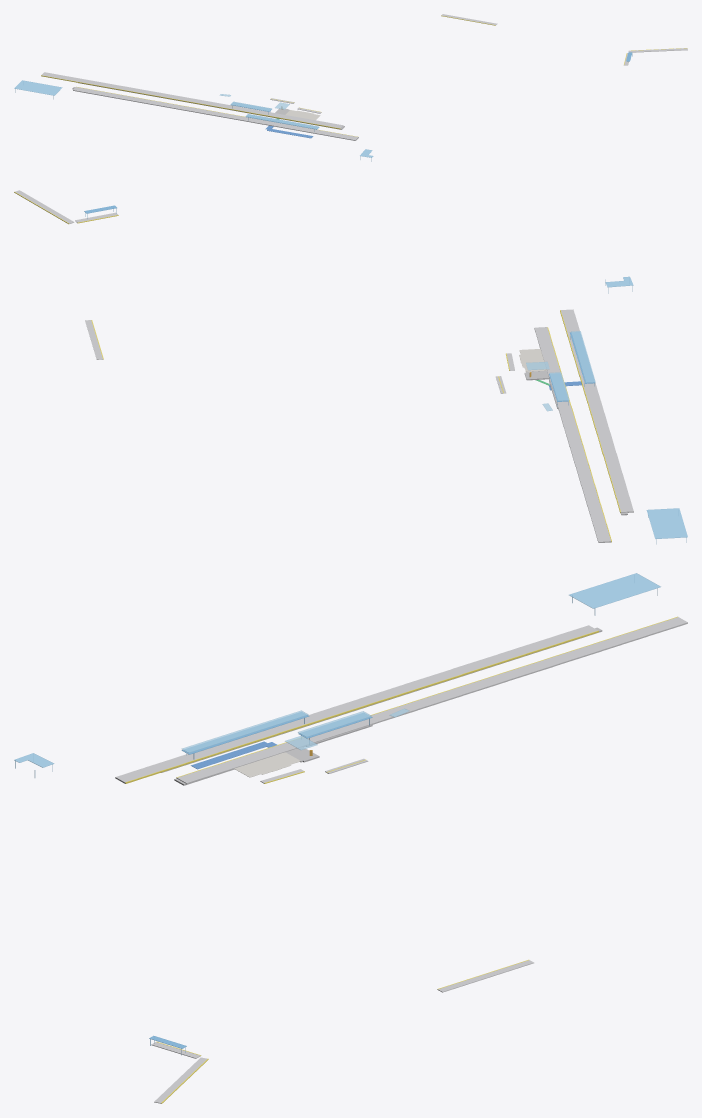
Rendered from 8507079-bern-weissenbuehl.glb.
3 renders of one model, top to bottom at view 1: azimuth 30°, elevation 25°; view 2: azimuth 150°, elevation 25°; view 3: azimuth 270°, elevation 25°, orthographic. The views are drawn at different scales.
Visible parts, largest first — view 1: platform_body@0, boarding_edge@0, roof@0, canopy@0, shelter@0, platform_surface@0; view 2: platform_body@0, canopy@0, roof@0, shelter@0, boarding_edge@0; view 3: platform_body@0, boarding_edge@0, canopy@0, roof@0, shelter@0, platform_surface@0, building_footprint@0.
Boxes of the visible parts, x1,y1,x2,y2 form: platform_body@0: [41, 14, 687, 140]; boarding_edge@0: [41, 15, 687, 136]; roof@0: [219, 94, 318, 129]; canopy@0: [14, 80, 373, 161]; shelter@0: [231, 52, 632, 131]; platform_surface@0: [72, 83, 344, 129]; platform_body@0: [15, 190, 633, 542]; canopy@0: [605, 276, 687, 544]; roof@0: [526, 331, 595, 411]; shelter@0: [84, 205, 595, 406]; boarding_edge@0: [14, 192, 620, 542]; platform_body@0: [115, 617, 687, 1103]; boarding_edge@0: [125, 616, 677, 1103]; canopy@0: [14, 573, 660, 777]; roof@0: [181, 708, 409, 752]; shelter@0: [149, 712, 372, 1055]; platform_surface@0: [161, 627, 602, 785]; building_footprint@0: [234, 752, 300, 777].
Size of the model in its own units: 451 by 9.12 by 246.
